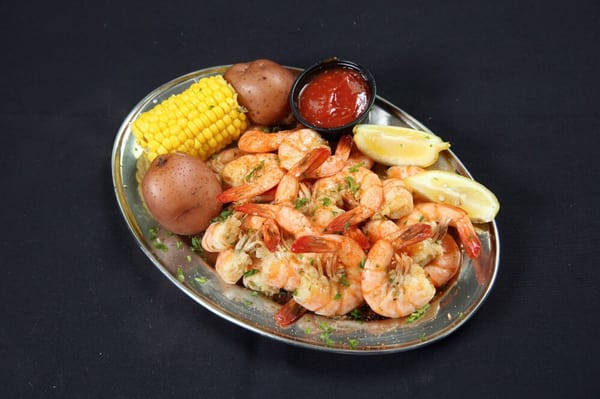sushi: (110, 56, 563, 360)
